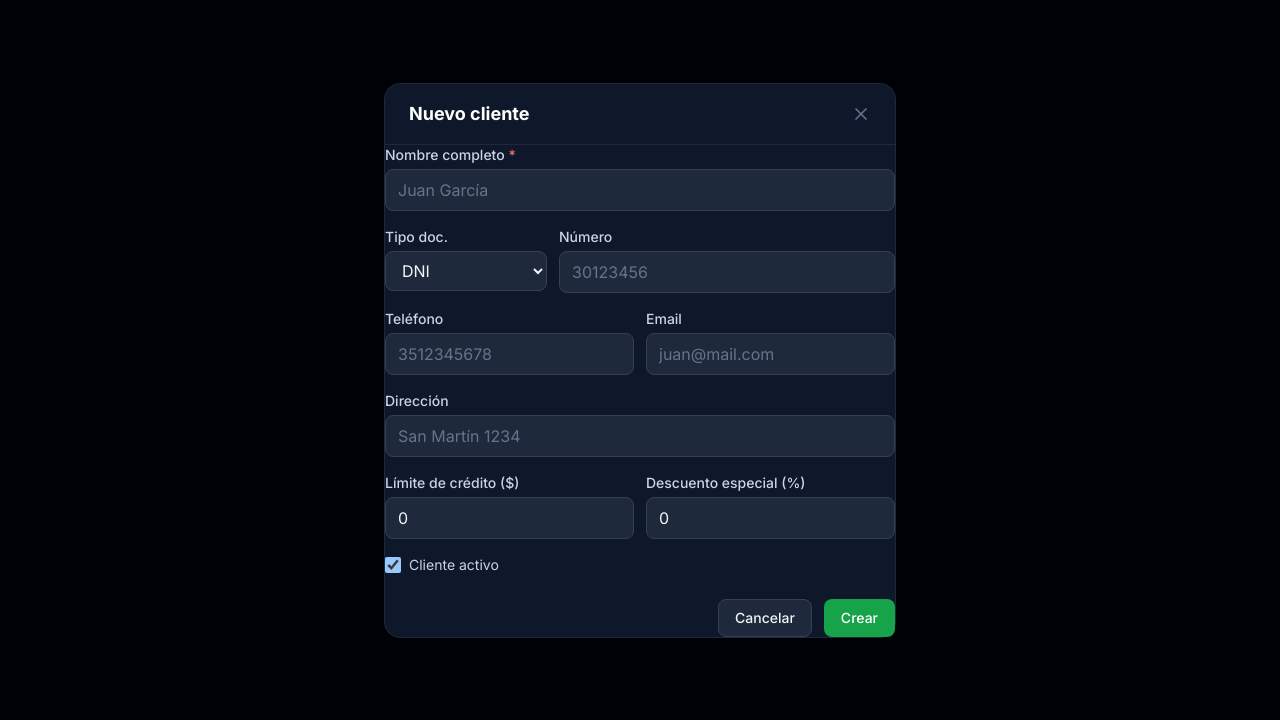
Test: CustomerFormModal — alta de cliente › no permite guardar sin nombre completo (campo obligatorio)
This screenshot has width=1280, height=720.
Click the button "Crear" at [859, 618], box [824,598,895,636]
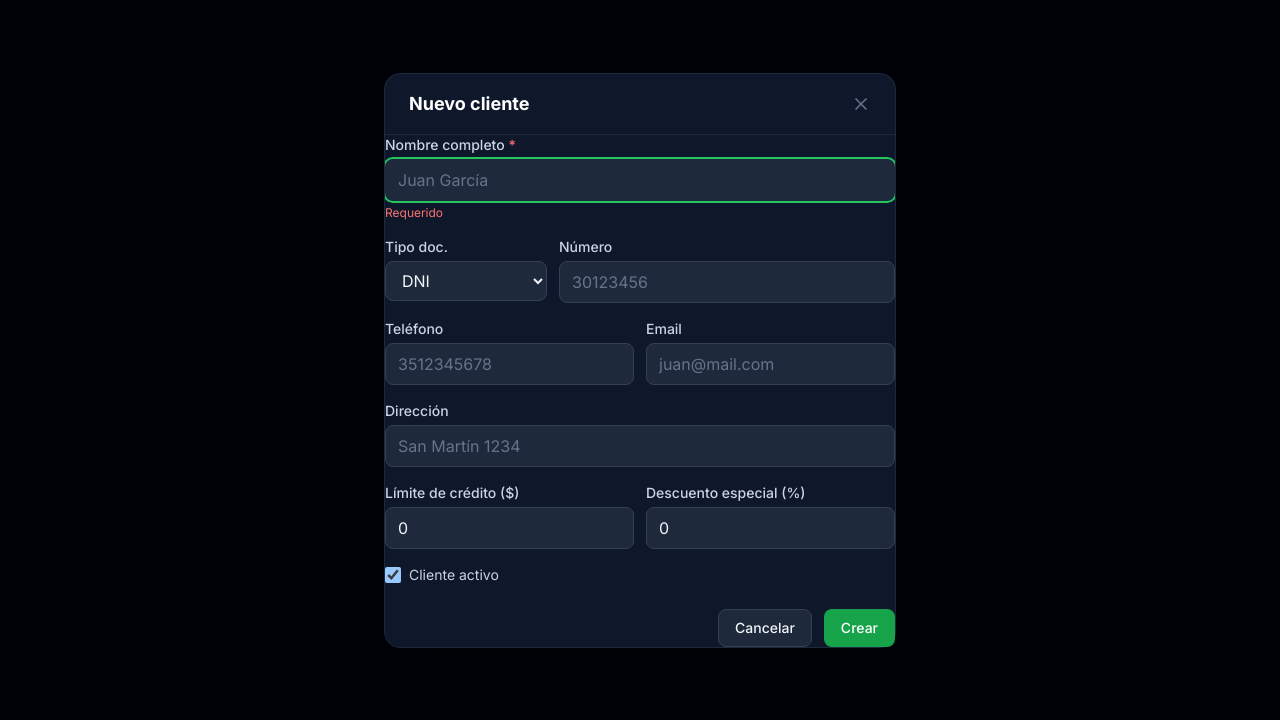
Check: the text "Requerido" is shown, box [385,204,443,220]
